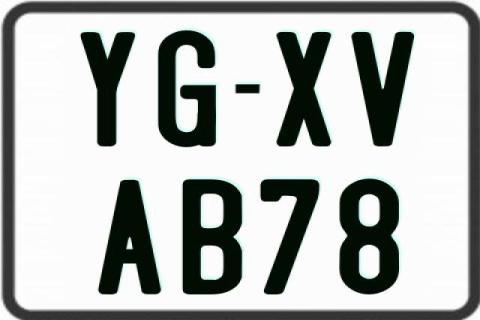0: (338, 178, 403, 298), (257, 177, 321, 297)
A: (98, 179, 163, 293)
B: (181, 178, 240, 294)
G: (158, 29, 222, 149)
V: (351, 32, 413, 151)
X: (277, 30, 336, 144)
Y: (78, 30, 137, 148)
